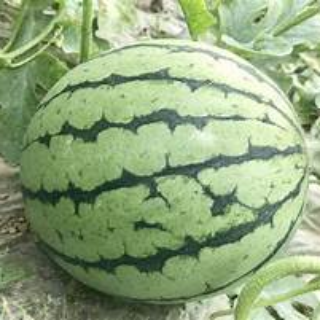dua_hau: (24, 32, 309, 306)
